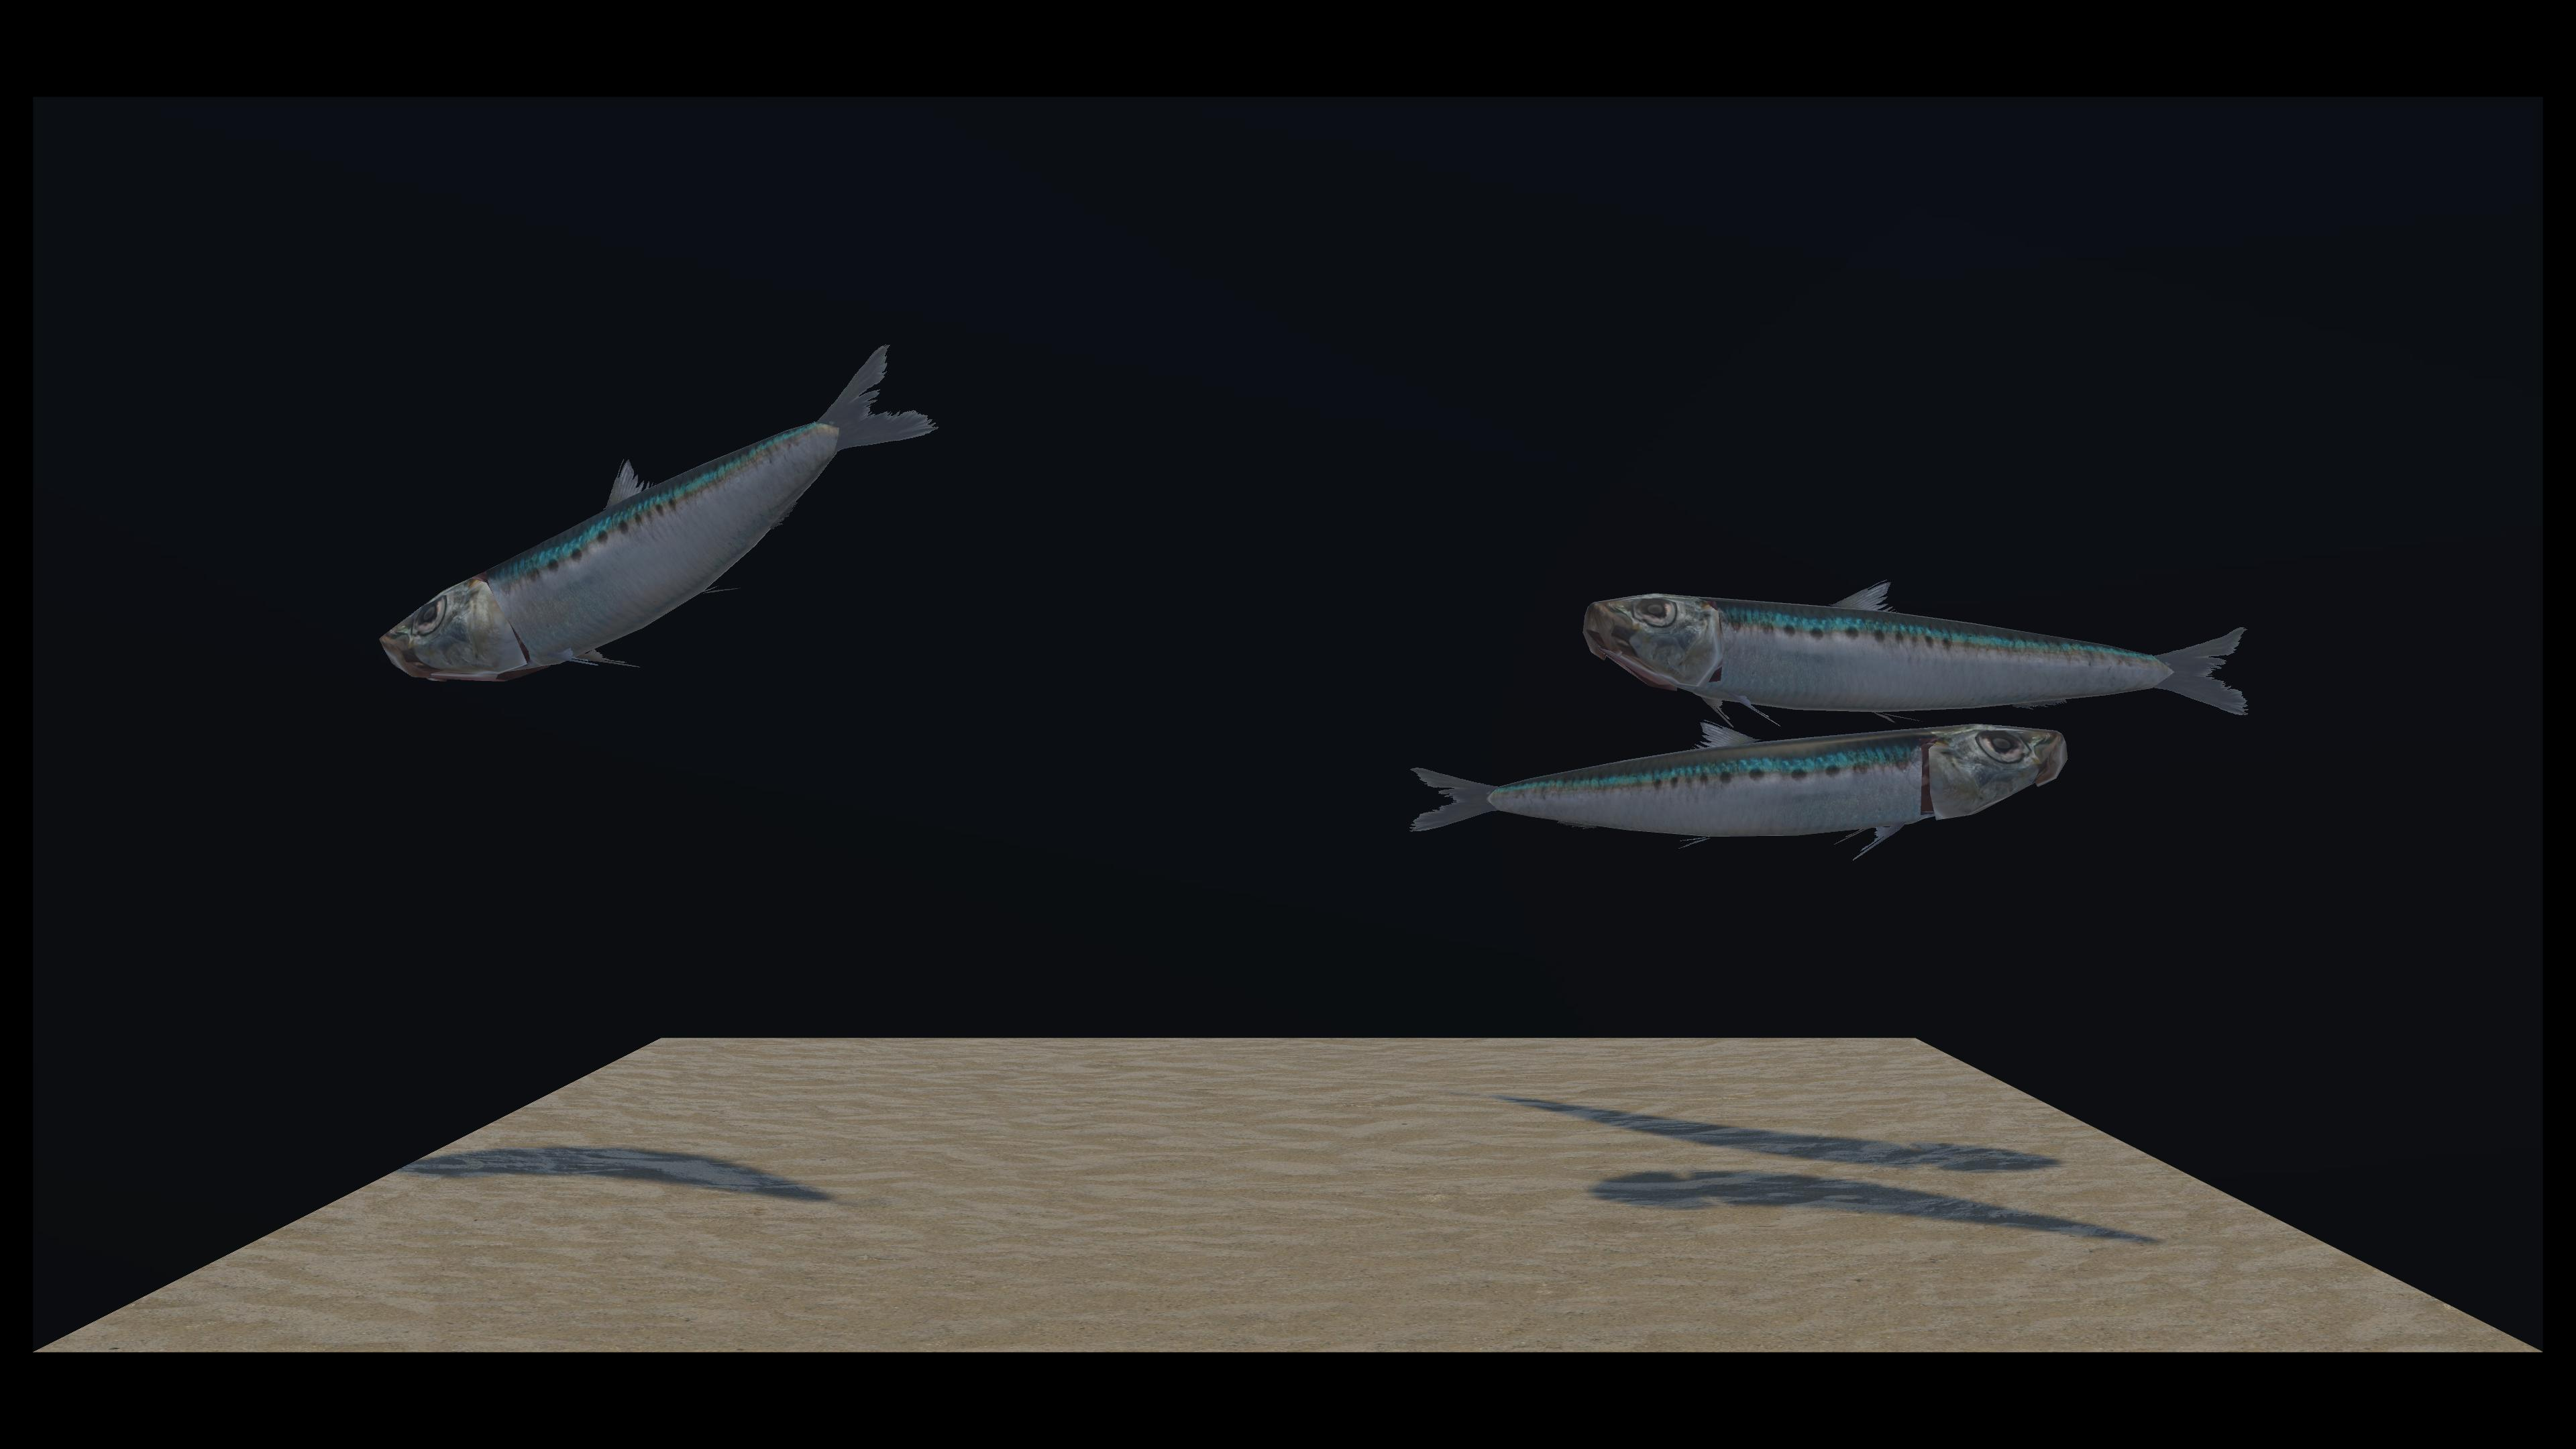Sardine_Front: (881, 340, 2054, 869), (786, 317, 2249, 740), (389, 347, 932, 672)
